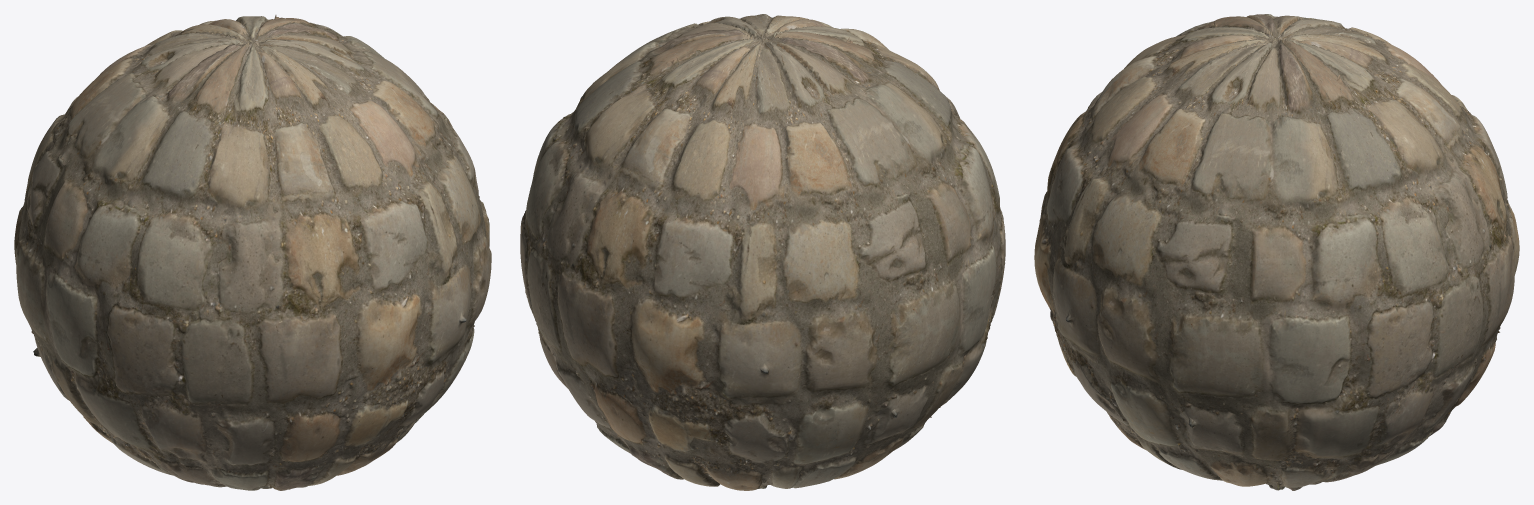
Rendered from cobblestone_floor_01_1k.gltf.
The picture shows the model from 3 angles, left to right: view 1: azimuth 30°, elevation 25°; view 2: azimuth 150°, elevation 25°; view 3: azimuth 270°, elevation 25°; orthographic projection.
Visible parts, largest first — view 1: sphere_gltf; view 2: sphere_gltf; view 3: sphere_gltf.
Part boxes in pixels (<box>): sphere_gltf: <box>14,15,491,490</box>; sphere_gltf: <box>520,14,1005,490</box>; sphere_gltf: <box>1034,14,1519,490</box>.
Bounding box in the file's own units: 1.01 × 1.01 × 1.02.
1 material, 1 textured.
